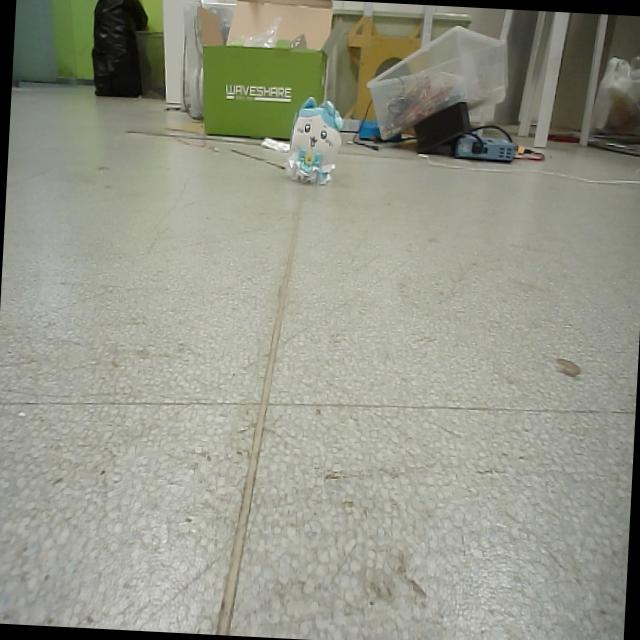xiaoba: (288, 93, 344, 189)
